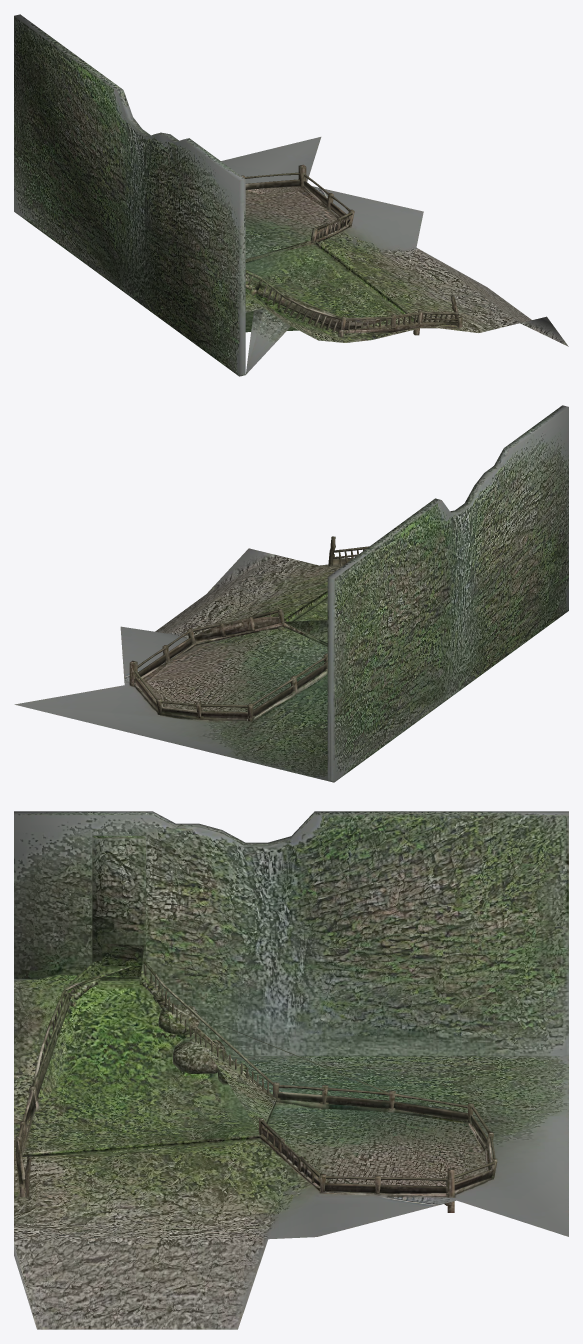
File: waterfalllandscape.full.glb
The picture shows the model from 3 angles, top to bottom: view 1: azimuth 30°, elevation 25°; view 2: azimuth 150°, elevation 25°; view 3: azimuth 270°, elevation 25°; orthographic projection. The views are drawn at different scales.
Parts seen in each view (by area): view 1: model; view 2: model; view 3: model.
Part boxes in pixels (x1=…): model: x1=14, y1=14, x2=568, y2=376; model: x1=14, y1=405, x2=568, y2=782; model: x1=14, y1=811, x2=568, y2=1329.
Bounding box in the file's own units: 0.8677 × 0.6255 × 0.9995.
1 material, 1 textured.
